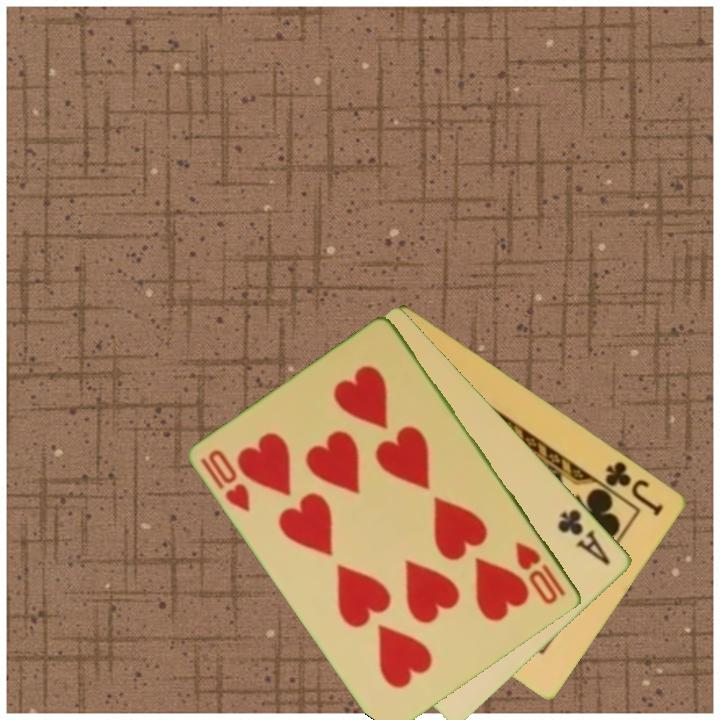10h: (197, 445, 254, 516), (512, 538, 569, 608)
Ac: (554, 505, 614, 569)
Jc: (602, 457, 667, 519)
